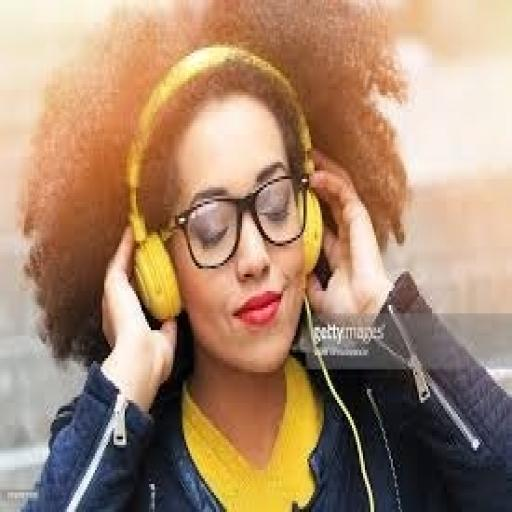listening_to_music: (17, 3, 510, 509)
